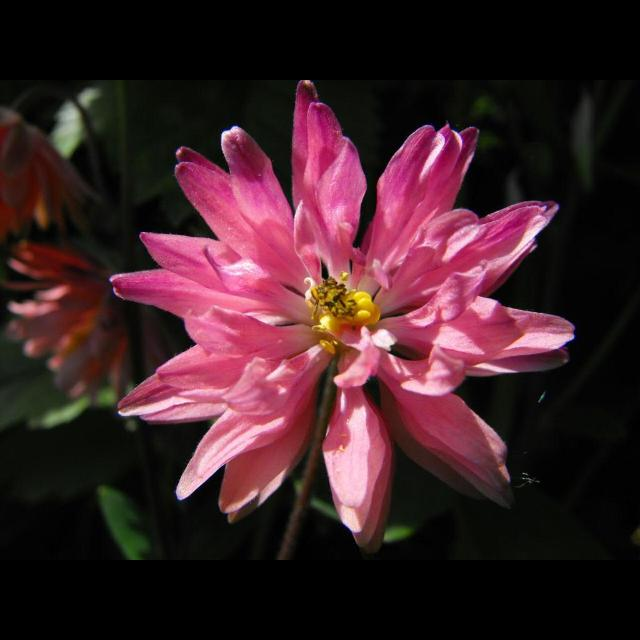Flower: (106, 110, 570, 540)
